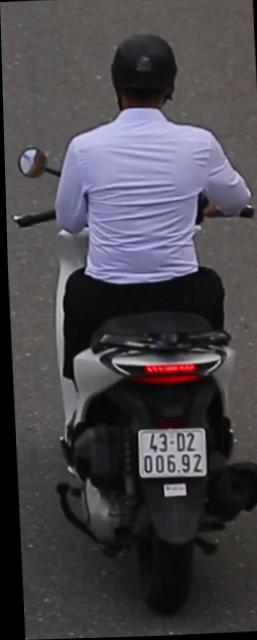LP: (130, 423, 208, 487)
helmet: (104, 25, 181, 137)
